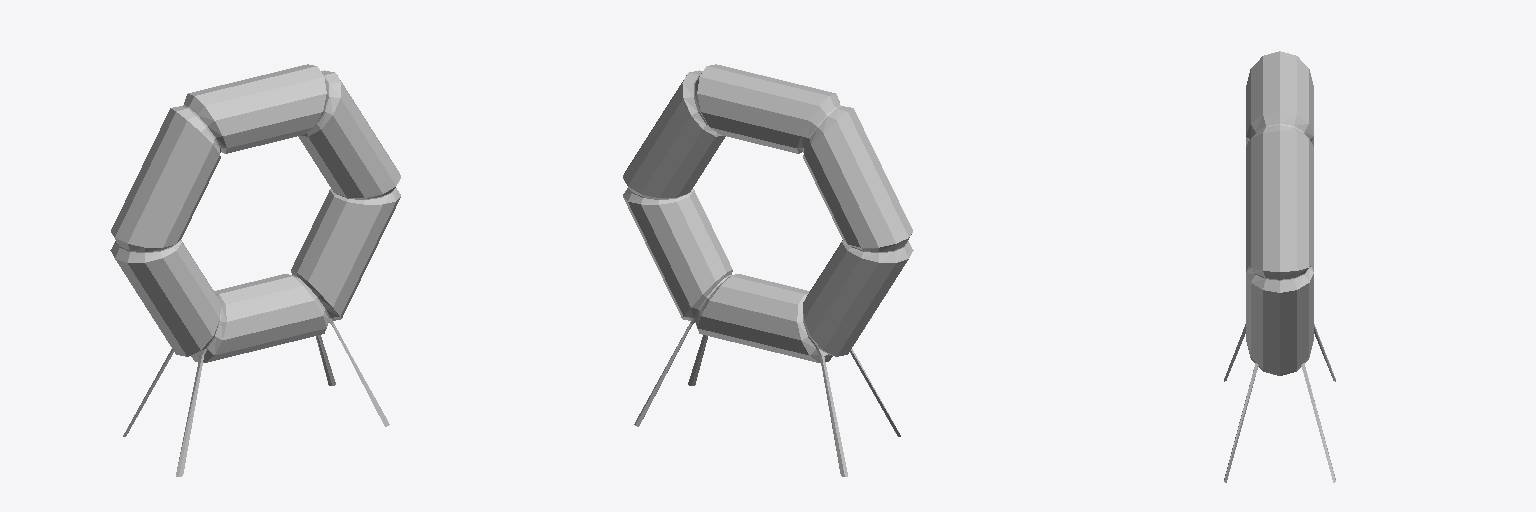
Rendered from futuremarkRing.obj.
3 renders of one model, left to right at view 1: azimuth 30°, elevation 25°; view 2: azimuth 150°, elevation 25°; view 3: azimuth 270°, elevation 25°, orthographic.
Size of the model in its own units: 28.74 by 34.05 by 9.89.